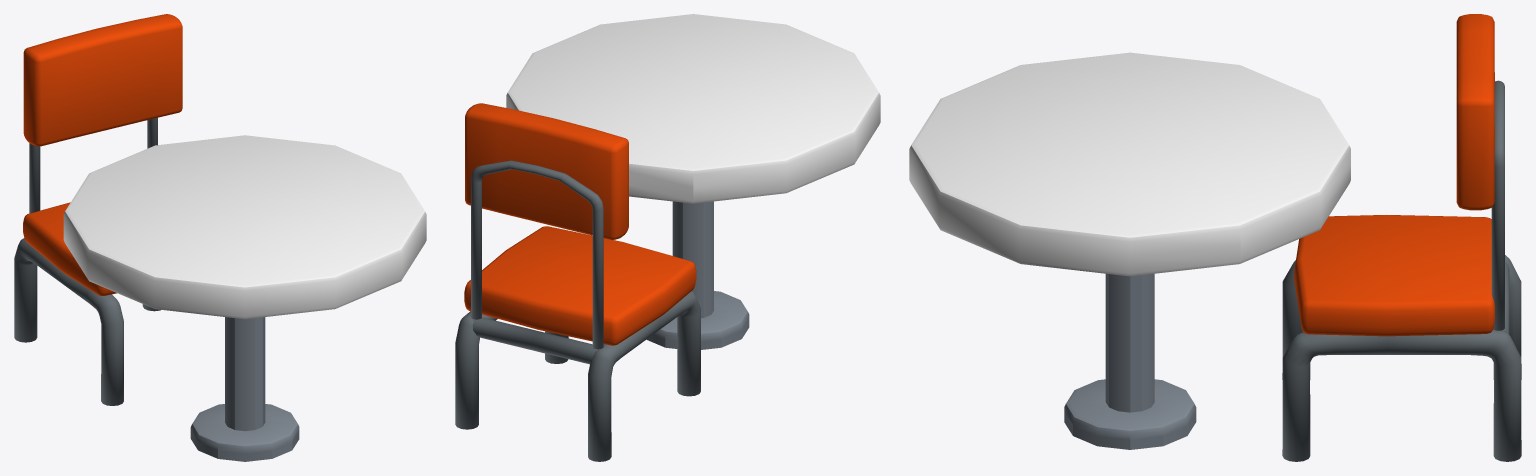
Rendered from Restaurant_Chair.fbx.
The picture shows the model from 3 angles, left to right: view 1: azimuth 30°, elevation 25°; view 2: azimuth 150°, elevation 25°; view 3: azimuth 270°, elevation 25°; orthographic projection. The views are drawn at different scales.
Visible parts, largest first — view 1: Restaurant_Table, Restaurant_Chair; view 2: Restaurant_Table, Restaurant_Chair; view 3: Restaurant_Table, Restaurant_Chair.
Part boxes in pixels (left/top/right/bottom): Restaurant_Table: left=63, top=135, right=426, bottom=461; Restaurant_Chair: left=14, top=14, right=182, bottom=405; Restaurant_Table: left=506, top=14, right=880, bottom=349; Restaurant_Chair: left=455, top=103, right=700, bottom=461; Restaurant_Table: left=909, top=52, right=1350, bottom=449; Restaurant_Chair: left=1282, top=14, right=1521, bottom=461.
Size of the model in its own units: 149 by 138 by 207.
